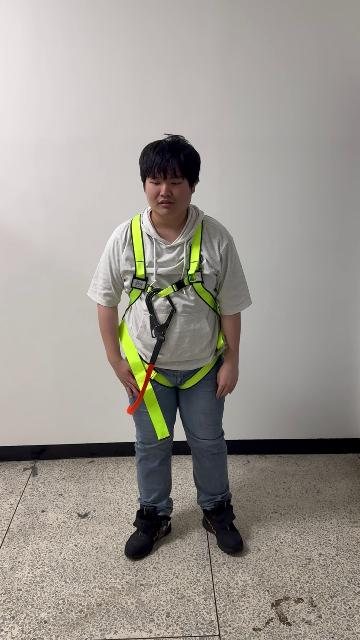helmet_not_worn: (139, 136, 201, 201)
shoe_worn: (124, 505, 172, 559), (201, 500, 243, 554)
vest_worn: (114, 215, 228, 433)
